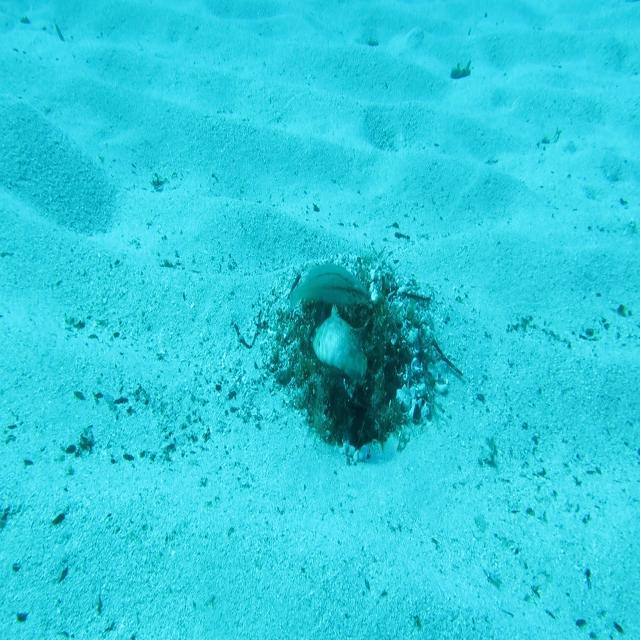DAN_CIRC: (309, 302, 369, 391)
female: (287, 258, 373, 317)
nest: (246, 234, 452, 483)
vegetation: (448, 59, 472, 82)
